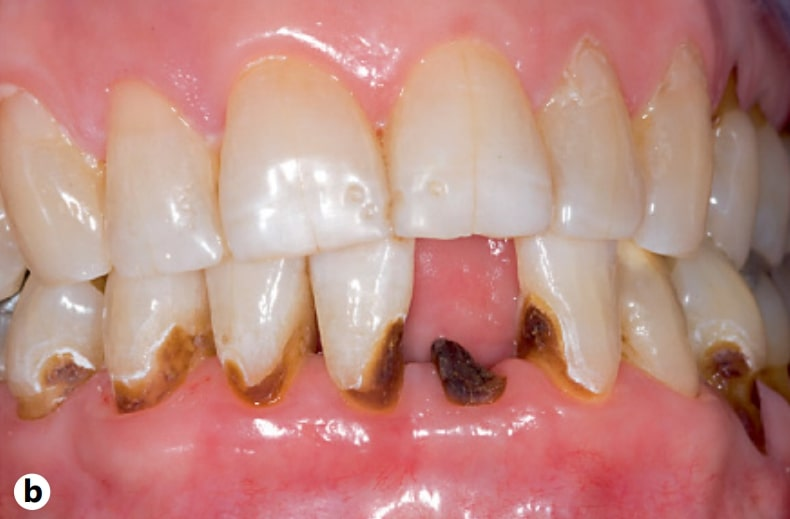karies: (514, 294, 597, 403), (112, 327, 209, 418), (690, 340, 764, 457), (216, 326, 315, 409), (334, 318, 412, 417), (12, 351, 99, 420), (429, 340, 509, 407), (707, 63, 750, 122), (758, 355, 790, 402), (741, 93, 779, 132)
